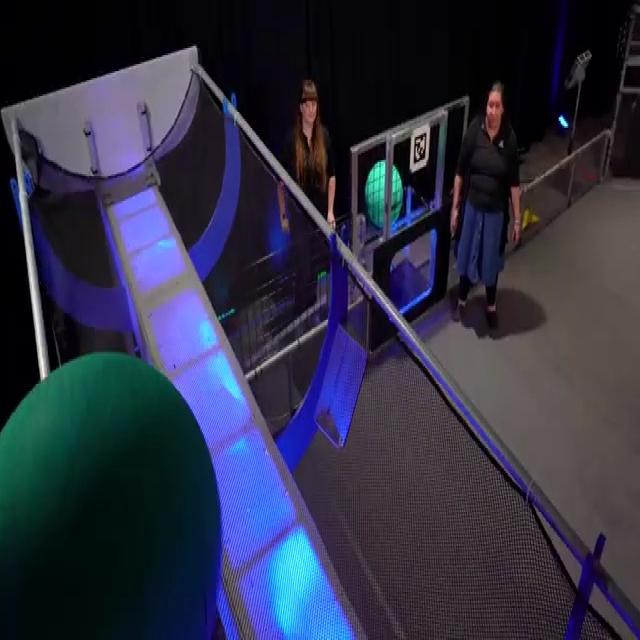Algae: (0, 348, 223, 636), (364, 158, 403, 228)
